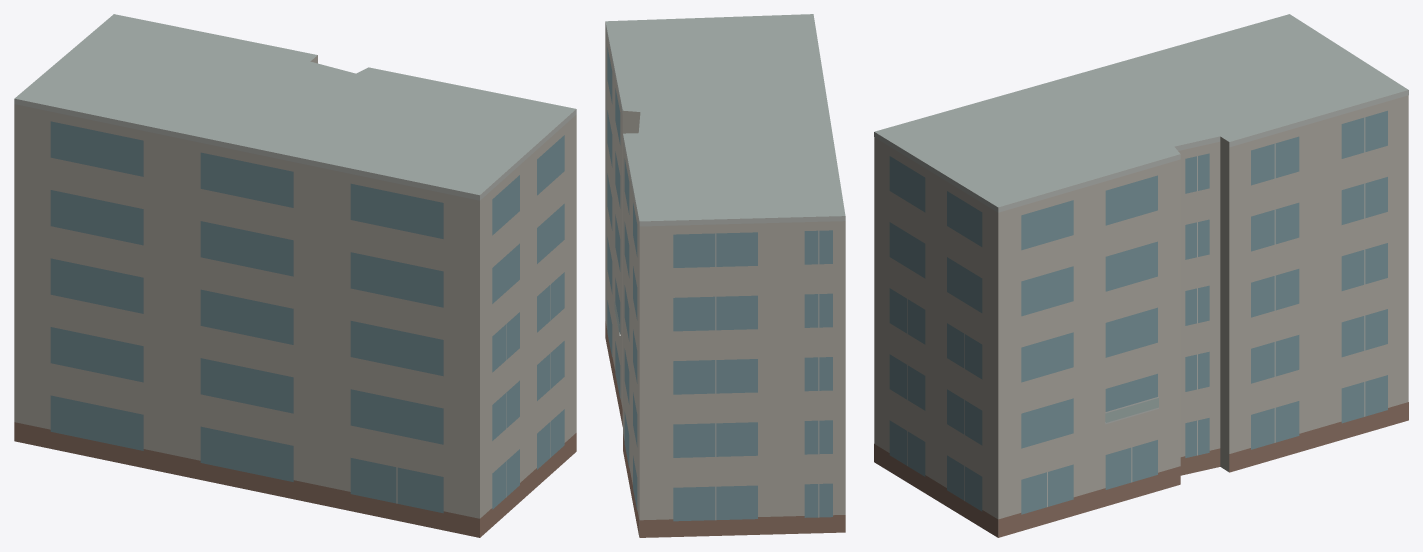
Rendered from survey-upis-32739295.glb.
3 views of the same model, side by side, from view 1: azimuth 30°, elevation 25°; view 2: azimuth 150°, elevation 25°; view 3: azimuth 270°, elevation 25° (orthographic). The views are drawn at different scales.
Visible parts, largest first — view 1: survey-upis-32739295.tmp; view 2: survey-upis-32739295.tmp; view 3: survey-upis-32739295.tmp.
Boxes of the visible parts, box(x1,y1,x2,y2) form: survey-upis-32739295.tmp: box(14, 14, 576, 537); survey-upis-32739295.tmp: box(605, 14, 845, 537); survey-upis-32739295.tmp: box(874, 14, 1408, 537).
Bounding box in the file's own units: 19.16 × 15.25 × 22.37.
